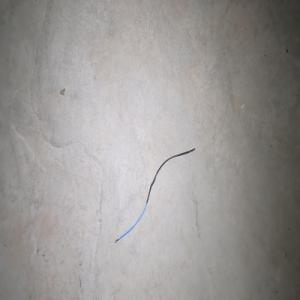Wire: (114, 147, 195, 243)
